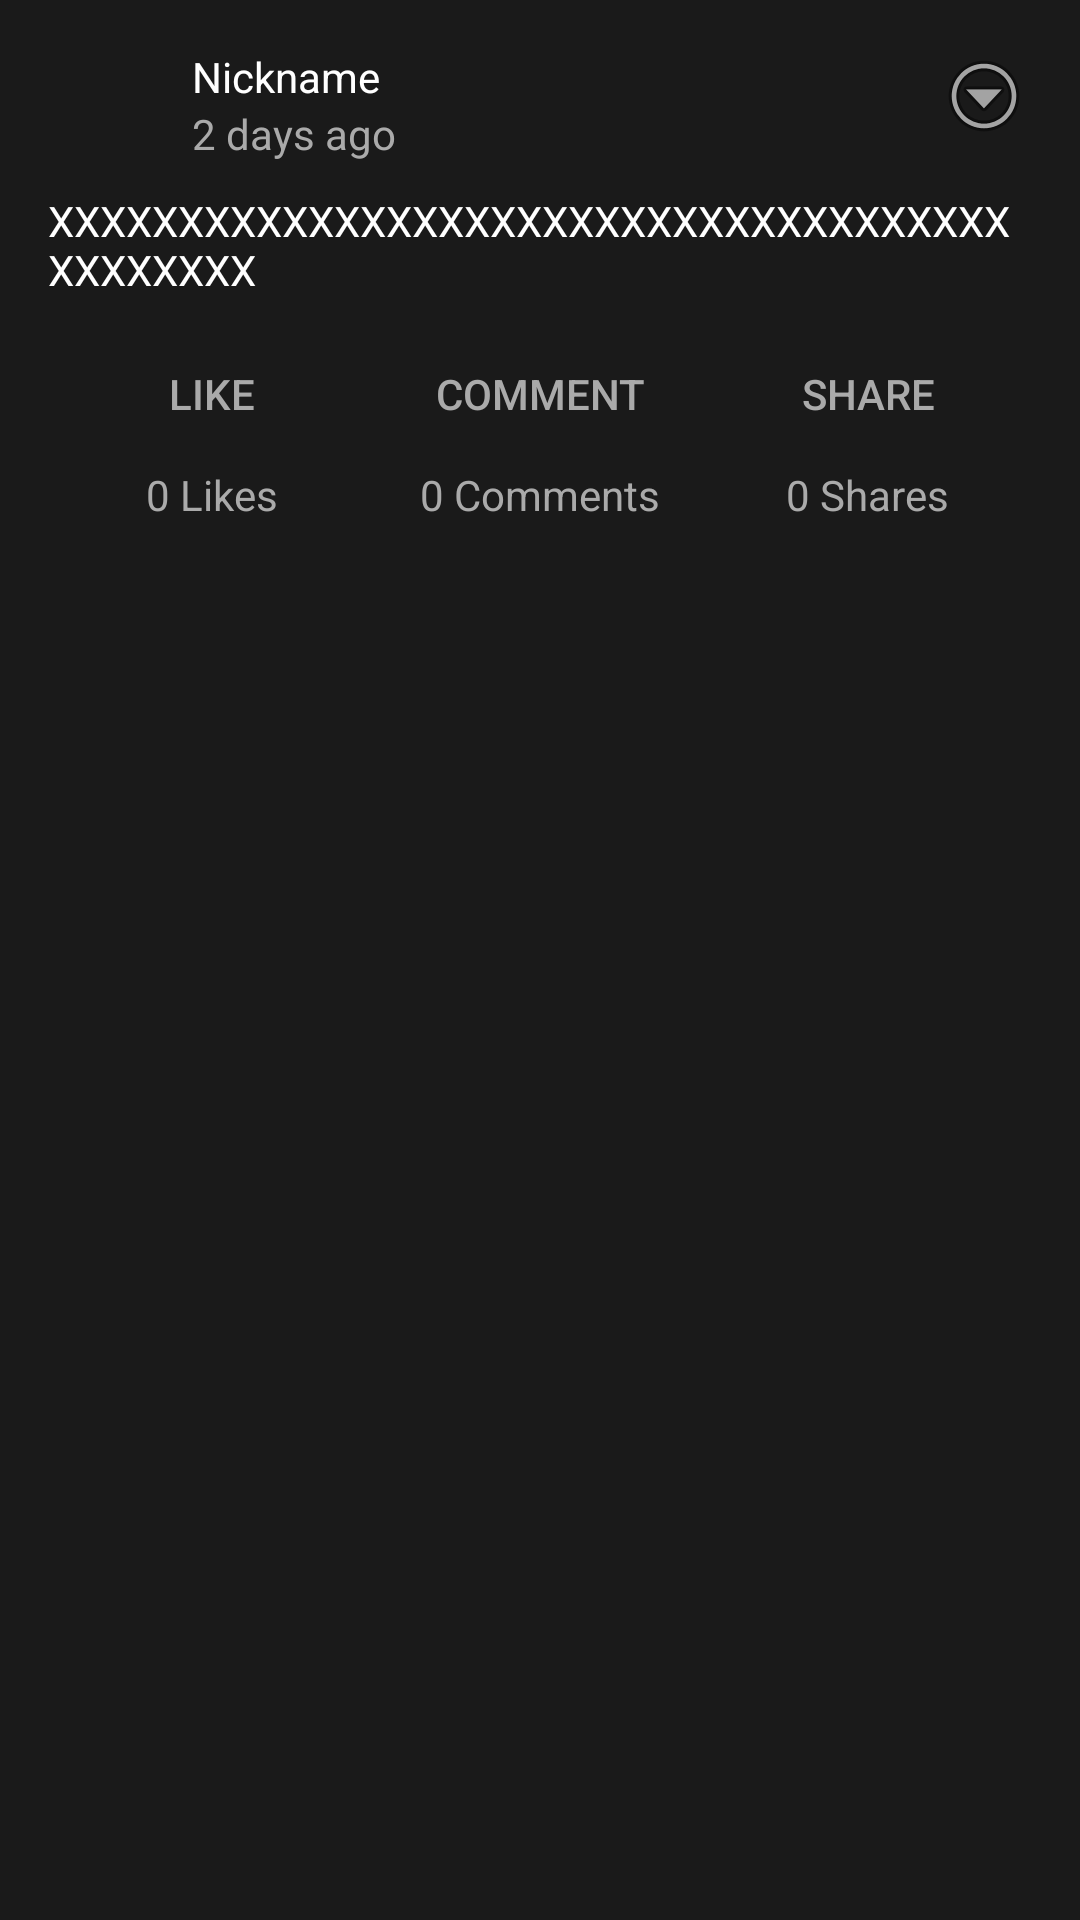

Icon bounding boxes for this 1080 x 1920 phone screenshot, format bbox=[x1, y1, x2, y2]:
More options: bbox=[951, 64, 1017, 129]
